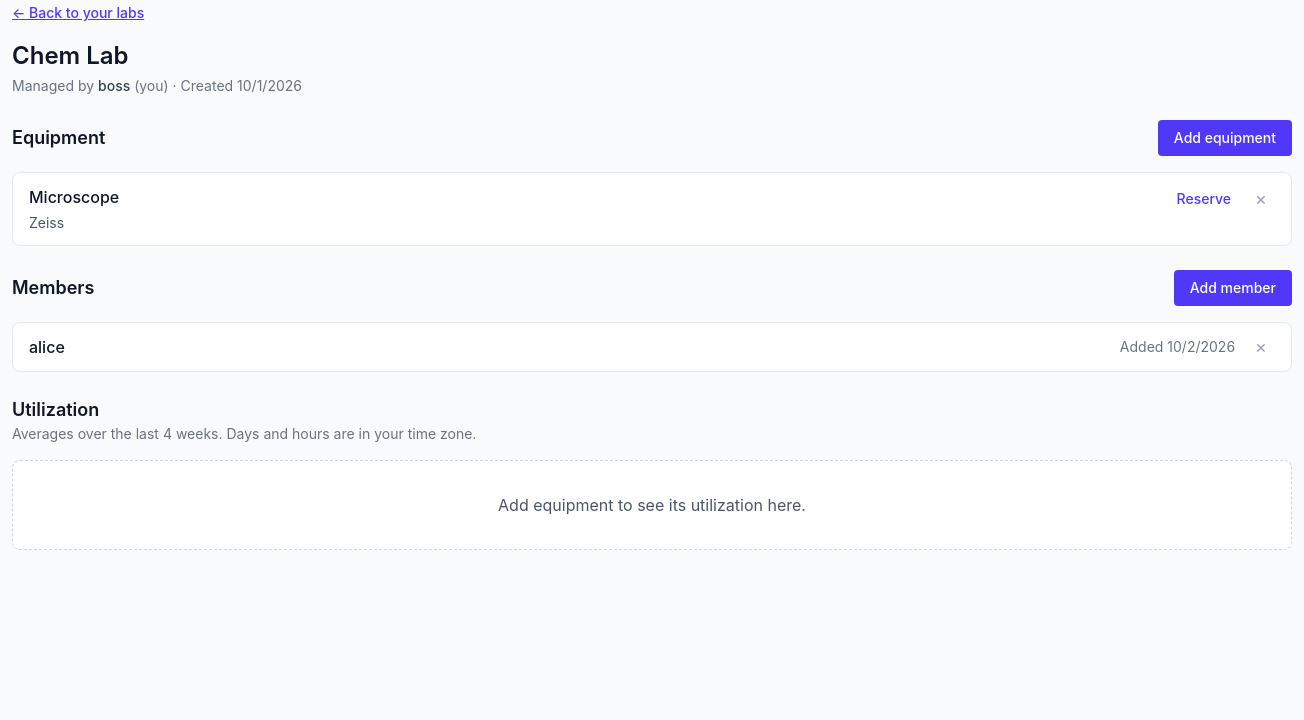
Test case: equipment › keeps equipment and shows an error when removing fails
The width and height of the screenshot is (1304, 720).
Click the button named "Remove Microscope": (1261,199) [1247, 188, 1275, 210]
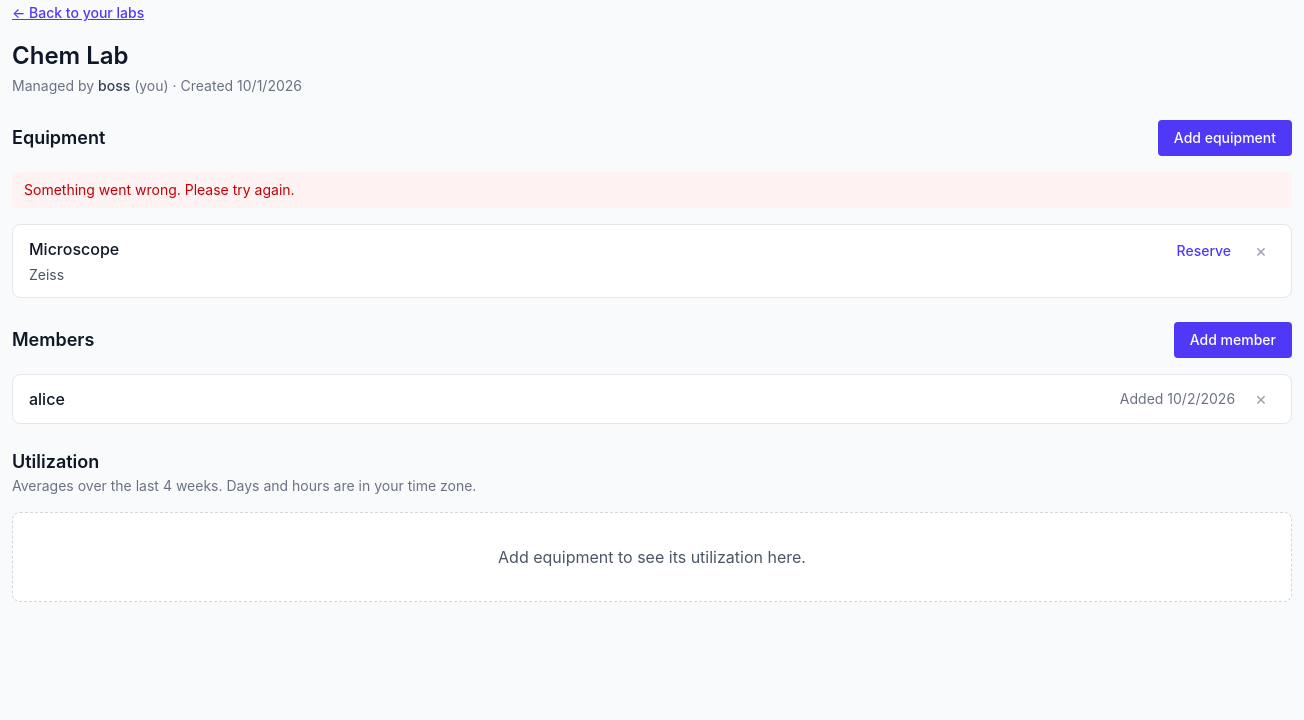
expect the text "Zeiss" is shown: met, box [29, 266, 64, 283]
expect the message reads "Something went wrong. Please try again.": met, box [24, 181, 295, 198]
